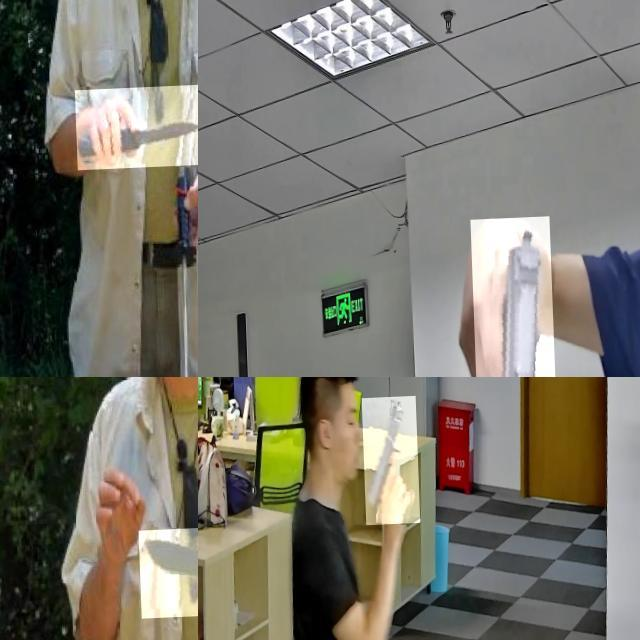-: (72, 88, 198, 173), (135, 528, 198, 621)
gun-knife-thesis - v11 Yolov5 augmented: (467, 219, 556, 377), (360, 398, 418, 528)
